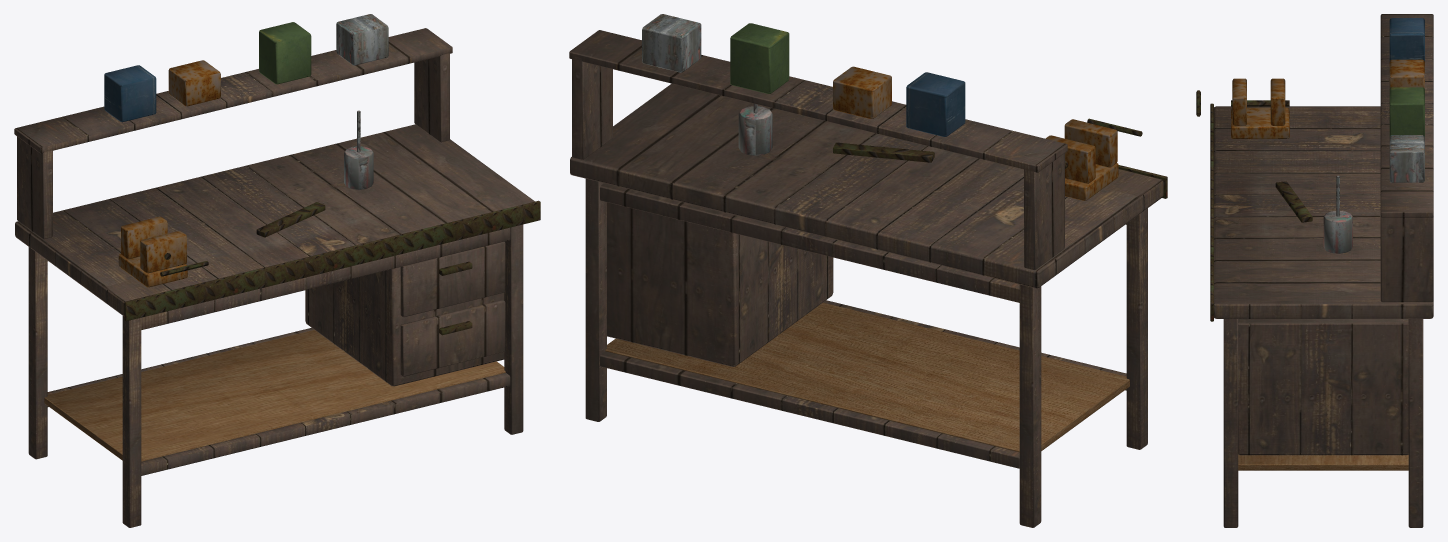
File: deploy_workbench.glb
3 views of the same model, side by side, from view 1: azimuth 30°, elevation 25°; view 2: azimuth 150°, elevation 25°; view 3: azimuth 270°, elevation 25° (orthographic). The views are drawn at different scales.
Visible parts, largest first — view 1: box.009, box.008, box.019, box.011, box.010, box.005, box.012, box.014, box.004, box, box.001, box.002 (+12 smaller); view 2: box.009, box.008, box.011, box.019, box.006, box.007, box.001, box, box.003, box.020, box.024, box.021 (+9 smaller); view 3: box.009, box.011, box.019, box.021, box.002, box.003, box.008, box.024, box.025, box.022, box.016, cyl.002 (+5 smaller).
Part boxes in pixels (x1,y1,x2,y2): box.009: (15, 124, 534, 316); box.008: (44, 330, 505, 461); box.019: (14, 28, 452, 153); box.011: (305, 267, 504, 386); box.010: (124, 200, 540, 321); box.005: (141, 372, 510, 475); box.012: (400, 300, 505, 376); box.014: (400, 241, 505, 317); box.004: (141, 227, 510, 329); box: (122, 316, 141, 527); box.001: (28, 247, 47, 459); box.002: (504, 224, 523, 434); box.009: (570, 83, 1163, 288); box.008: (605, 302, 1129, 452); box.011: (607, 202, 833, 366); box.019: (569, 30, 1067, 172); box.006: (600, 183, 1019, 302); box.007: (600, 351, 1019, 468); box.001: (1019, 284, 1041, 527); box: (1126, 208, 1147, 449); box.003: (585, 178, 606, 421); box.020: (1024, 153, 1064, 270); box.024: (730, 23, 789, 93); box.021: (572, 56, 612, 159); box.009: (1214, 106, 1433, 318); box.011: (1238, 319, 1408, 455); box.019: (1380, 14, 1433, 218); box.021: (1380, 217, 1433, 302); box.002: (1223, 319, 1238, 527); box.003: (1408, 319, 1423, 527); box.008: (1238, 455, 1408, 470); box.024: (1389, 87, 1424, 136); box.025: (1389, 135, 1424, 182); box.022: (1389, 18, 1424, 61); box.016: (1231, 107, 1289, 138); cyl.002: (1323, 210, 1352, 253).
Bounding box in the file's own units: 1.61 × 1.37 × 0.808.
7 materials, 7 textured.
